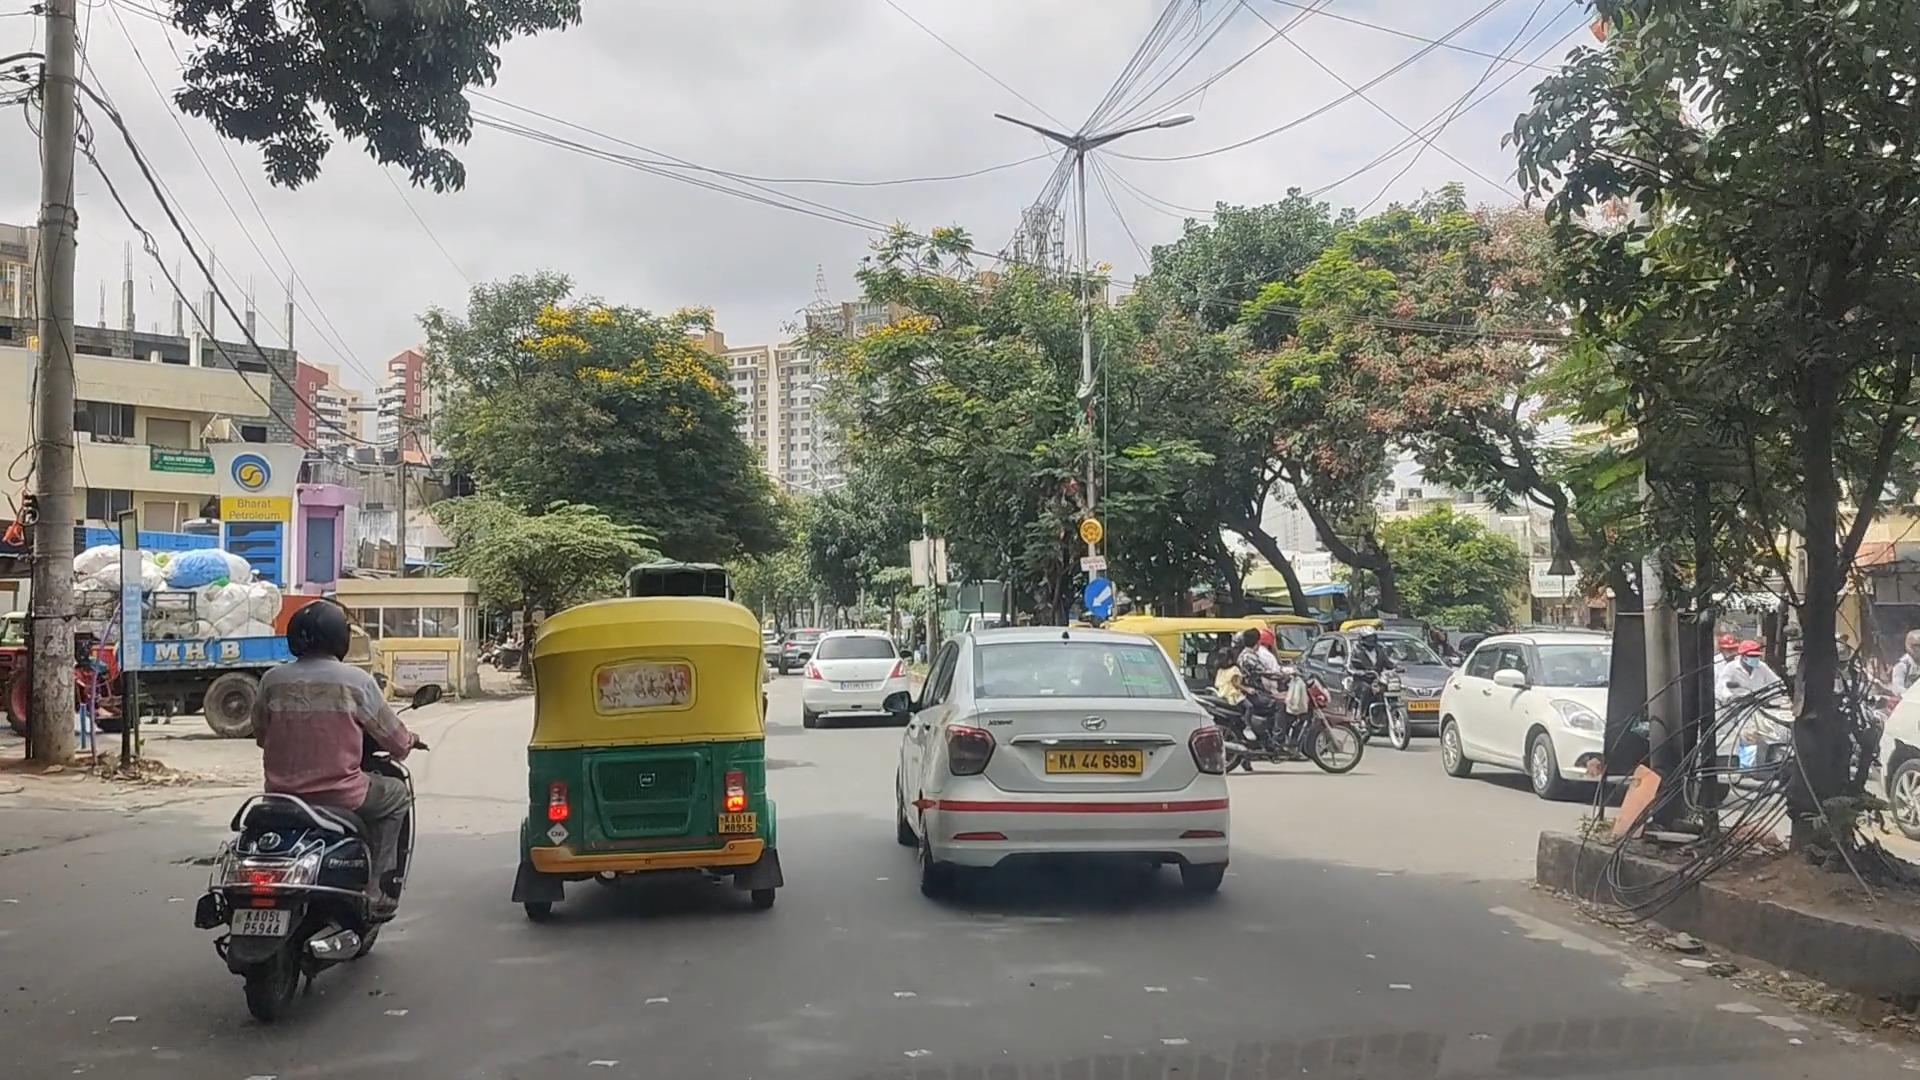LMV: (901, 646, 1238, 891), (525, 624, 782, 920), (235, 608, 417, 1023)
